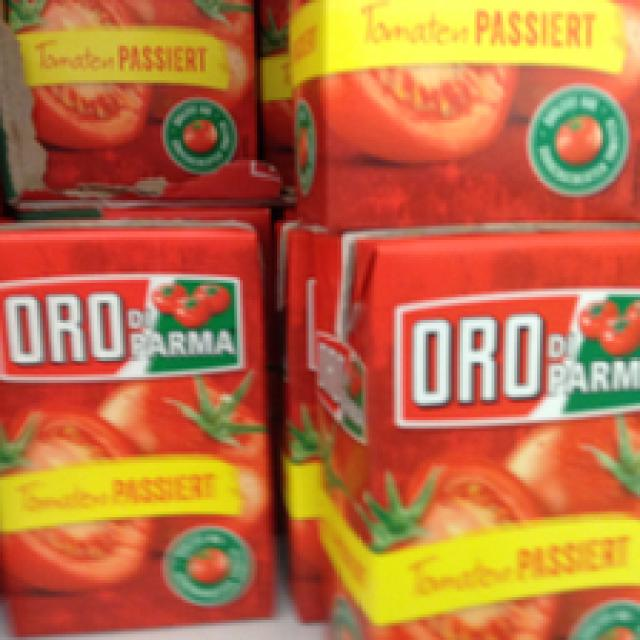groceries: (309, 226, 637, 628), (0, 214, 277, 637), (283, 0, 637, 226)
